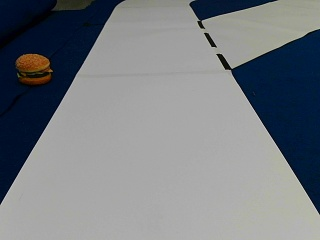burger: (14, 52, 52, 84)
